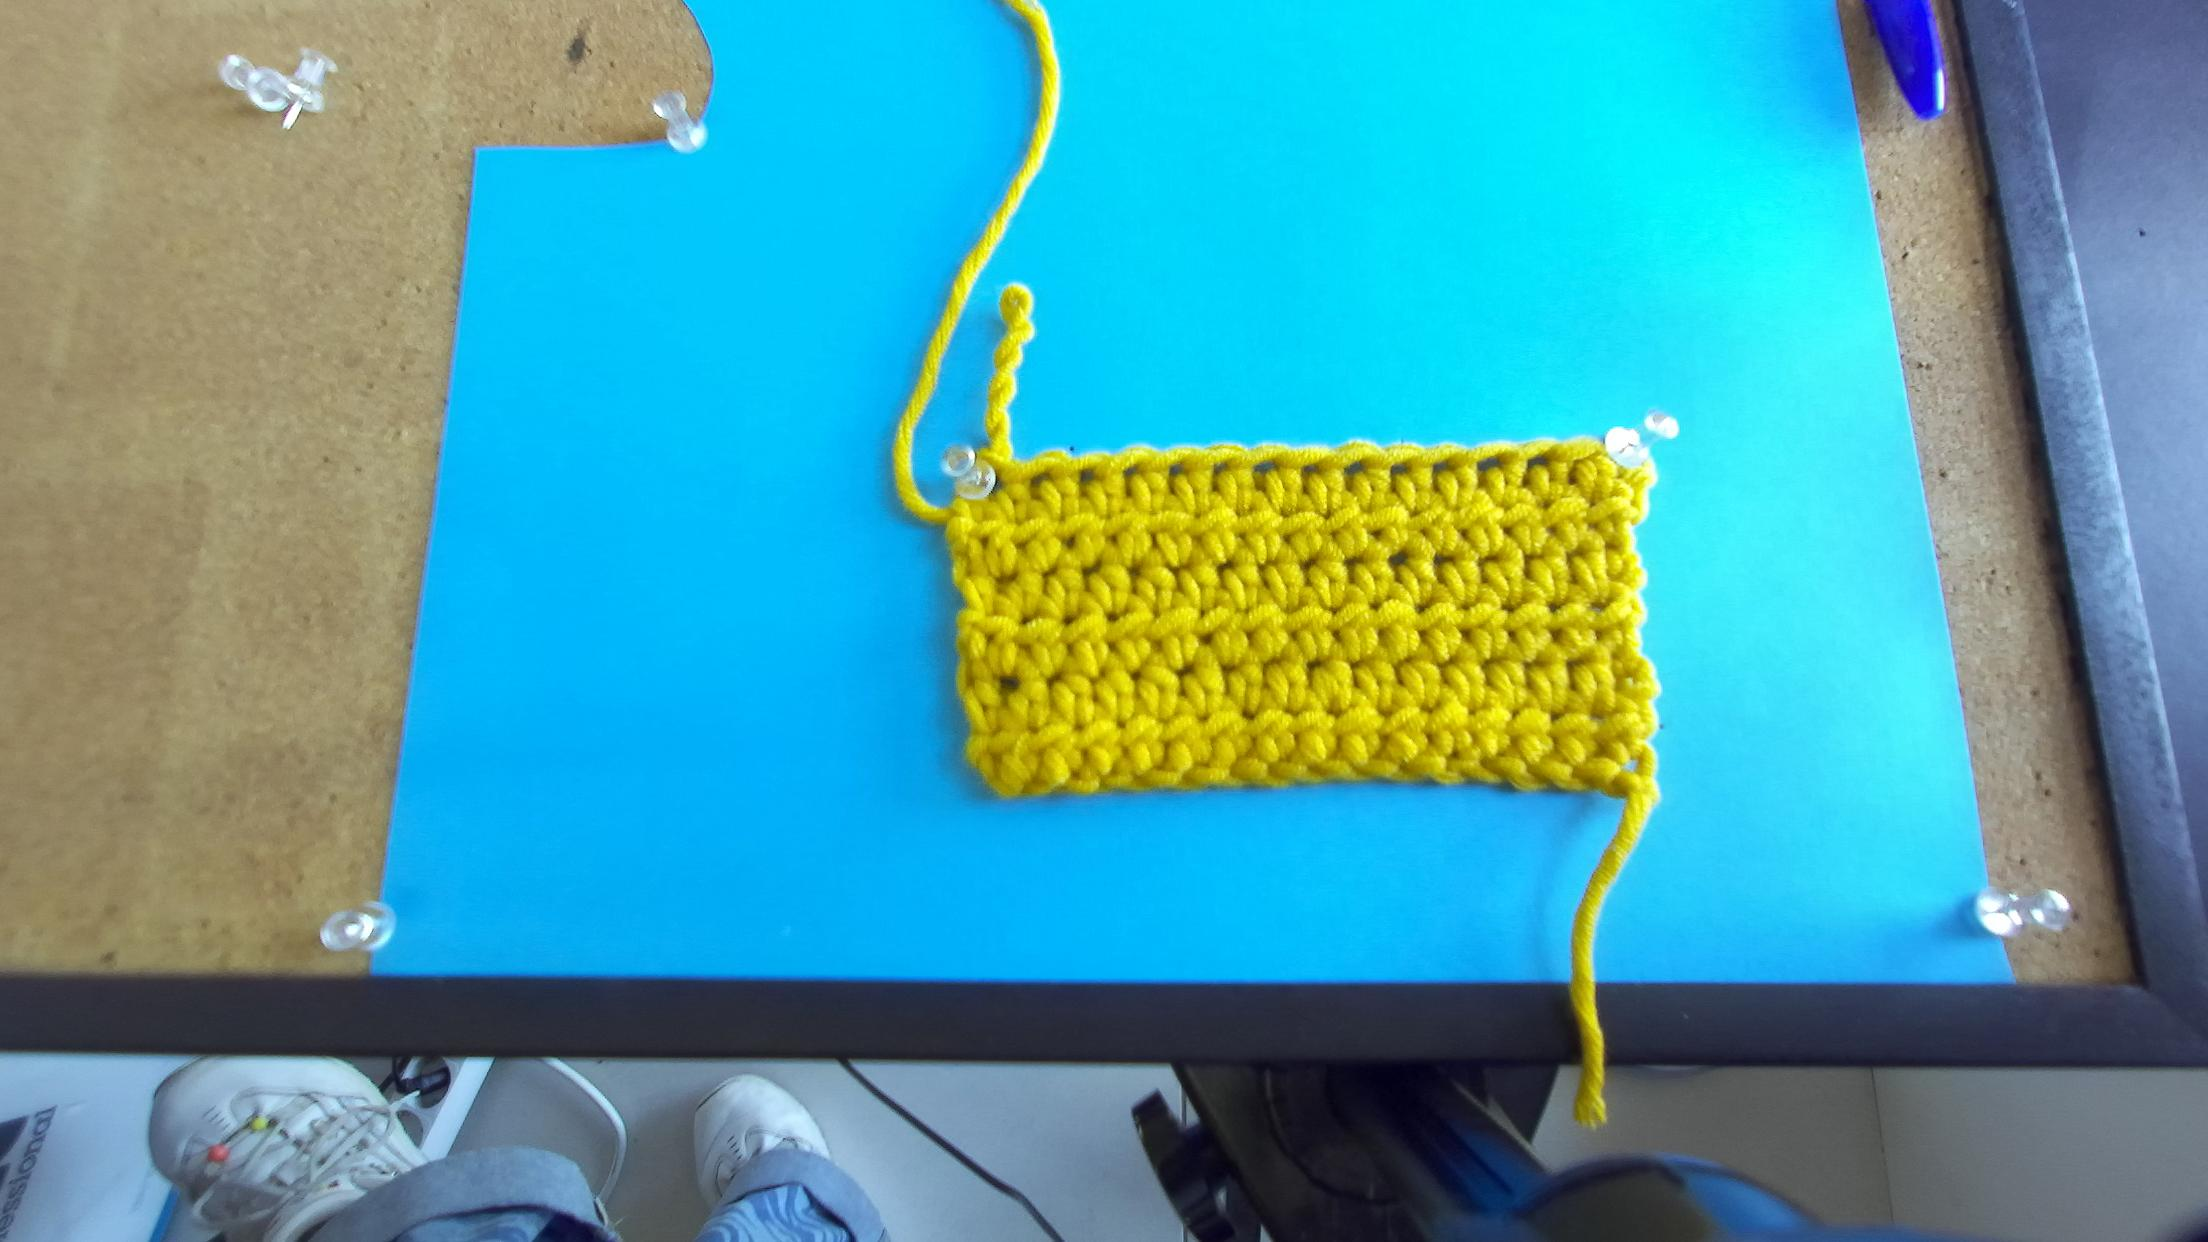hole: (1253, 458, 1278, 478), (1476, 453, 1501, 473), (1028, 472, 1052, 490), (1526, 453, 1550, 470), (1342, 458, 1363, 476), (1169, 461, 1189, 479), (1121, 464, 1143, 479), (1388, 463, 1410, 478), (989, 475, 1005, 494), (1433, 459, 1454, 473), (1078, 467, 1095, 484), (1301, 461, 1319, 476), (1213, 461, 1228, 476)
swatch: (942, 432, 1661, 805)
